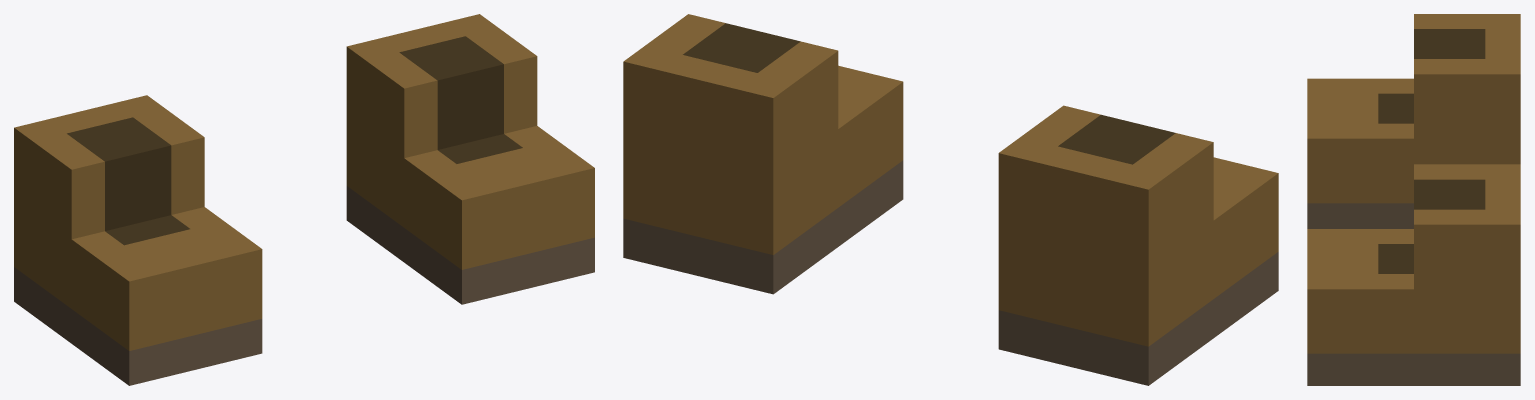
File: LeatherBoots.obj
3 views of the same model, side by side, from view 1: azimuth 30°, elevation 25°; view 2: azimuth 150°, elevation 25°; view 3: azimuth 270°, elevation 25° (orthographic). The views are drawn at different scales.
Size of the model in its own units: 1.4 by 0.5 by 0.6.
Materials: 1 (1 with a texture image).
